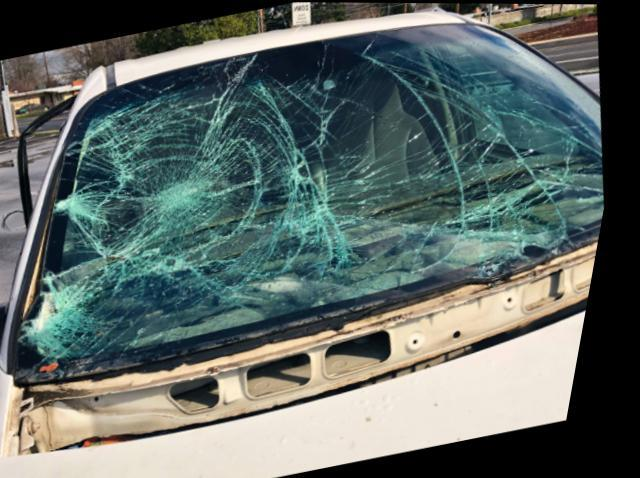glass shatter: (24, 23, 611, 381)
no part: (33, 241, 607, 455)
